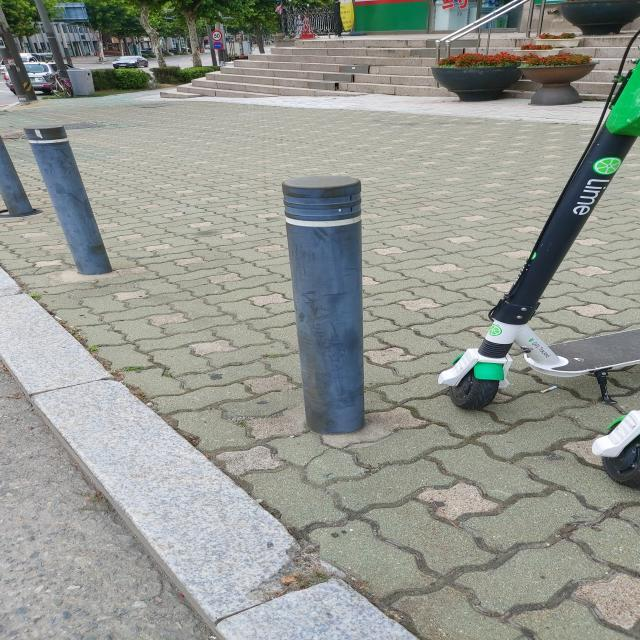pole: (281, 175, 364, 434), (22, 124, 110, 275)
